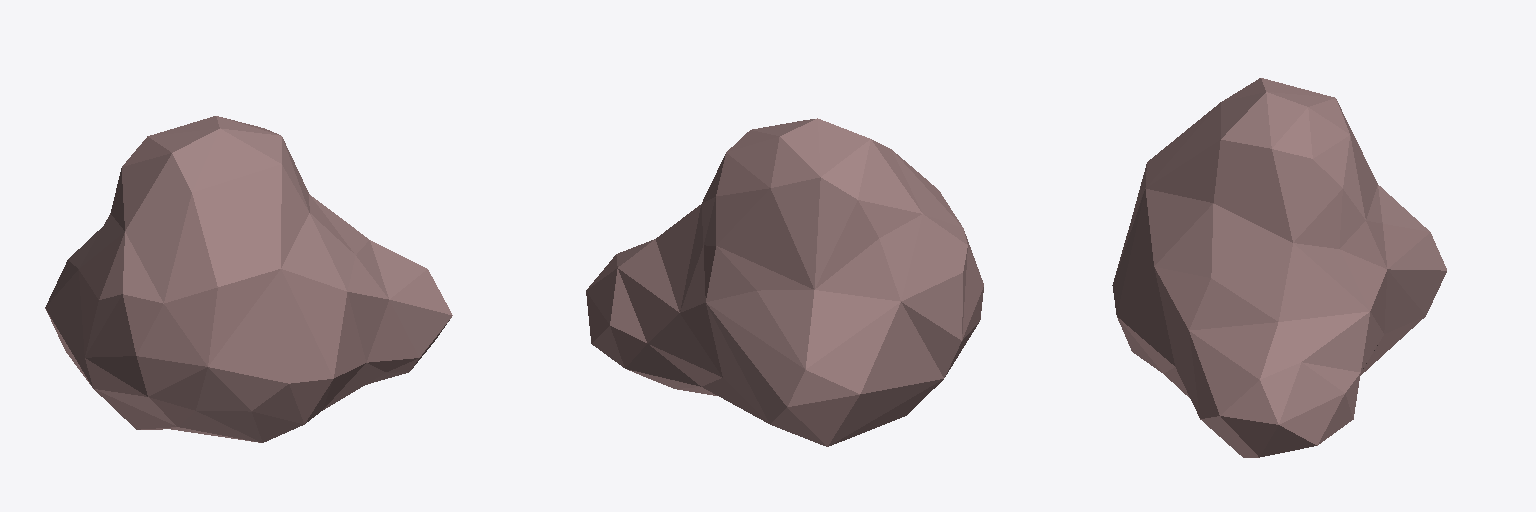
3 renders of one model, left to right at view 1: azimuth 30°, elevation 25°; view 2: azimuth 150°, elevation 25°; view 3: azimuth 270°, elevation 25°, orthographic.
Parts seen in each view (by area): view 1: rock; view 2: rock; view 3: rock.
Boxes of the visible parts, x1=… form: rock: x1=45, y1=116, x2=452, y2=442; rock: x1=586, y1=118, x2=983, y2=446; rock: x1=1112, y1=78, x2=1446, y2=457.
Bounding box in the file's own units: 1.97 × 1.47 × 1.56.